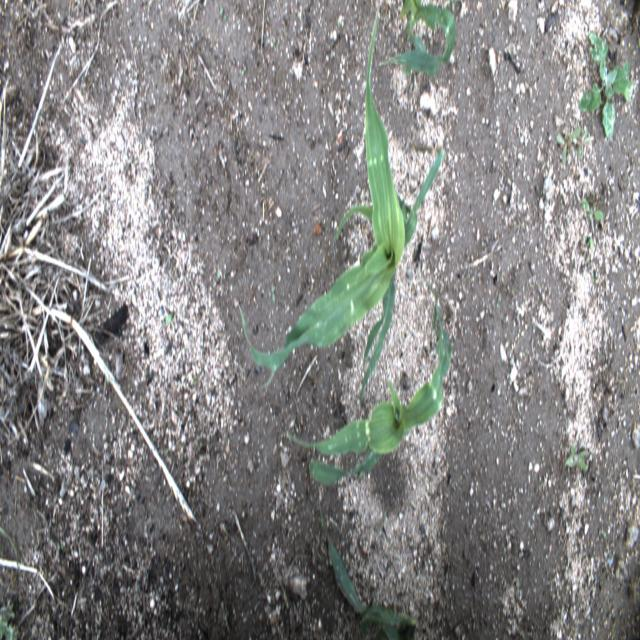crop: (240, 10, 447, 408), (287, 306, 453, 486), (318, 501, 418, 638), (375, 0, 456, 75)
weed: (578, 30, 632, 142), (553, 126, 583, 166), (564, 440, 589, 474), (0, 596, 18, 639), (580, 198, 604, 223), (218, 5, 228, 22), (270, 282, 276, 303), (165, 311, 172, 324), (240, 64, 247, 76), (600, 528, 606, 540)
